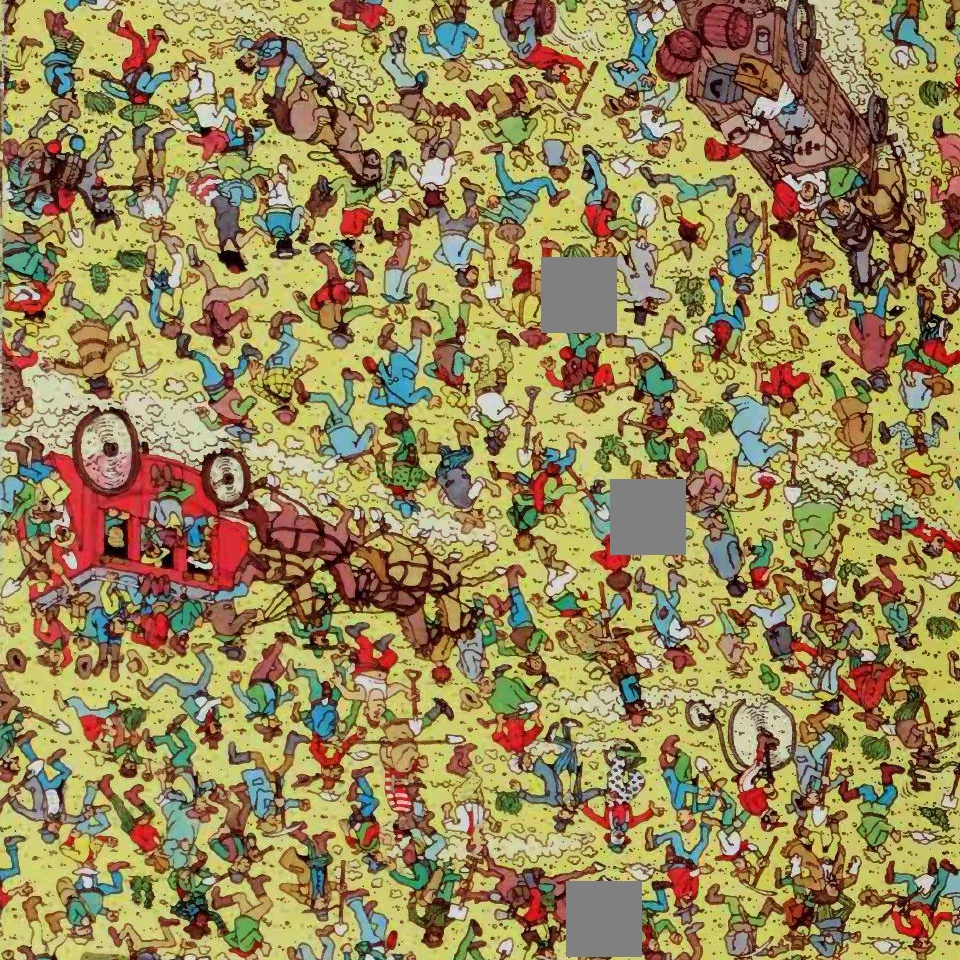waldo: (383, 770, 416, 841)
